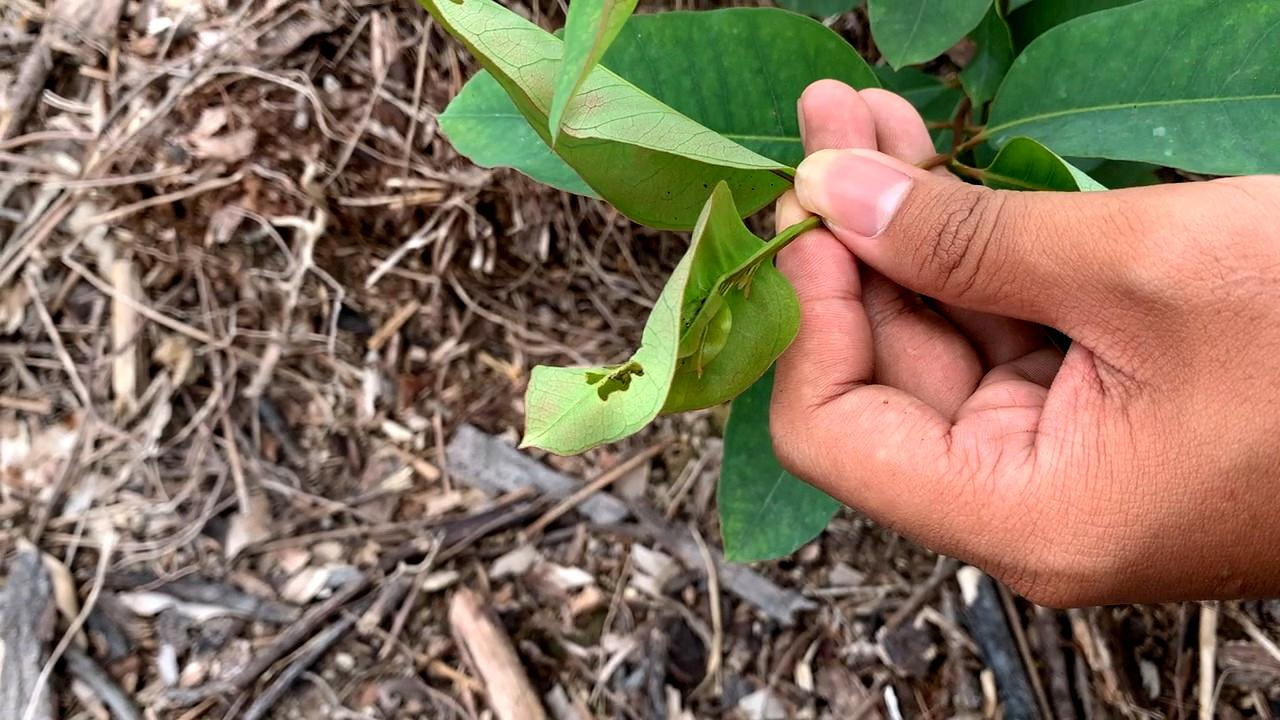Leaf Roller - Leaf: (521, 212, 771, 439)
